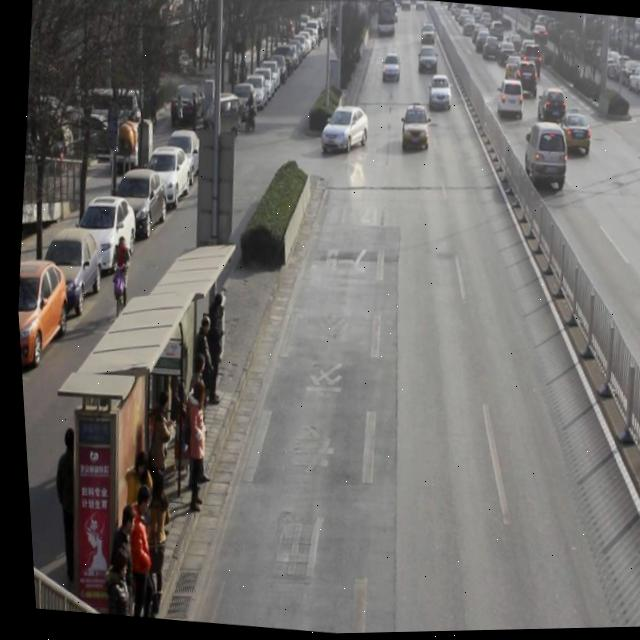car: (316, 104, 370, 159), (556, 108, 592, 161), (398, 104, 430, 156), (494, 80, 525, 125), (533, 91, 565, 130), (424, 76, 452, 115), (513, 63, 539, 100), (415, 49, 438, 79), (380, 55, 400, 86), (502, 55, 522, 85), (480, 38, 500, 64), (521, 46, 542, 68), (496, 44, 516, 67), (419, 26, 436, 51), (529, 26, 548, 47), (474, 32, 489, 56), (513, 41, 531, 60), (508, 34, 522, 53)
truck: (516, 124, 569, 194)
